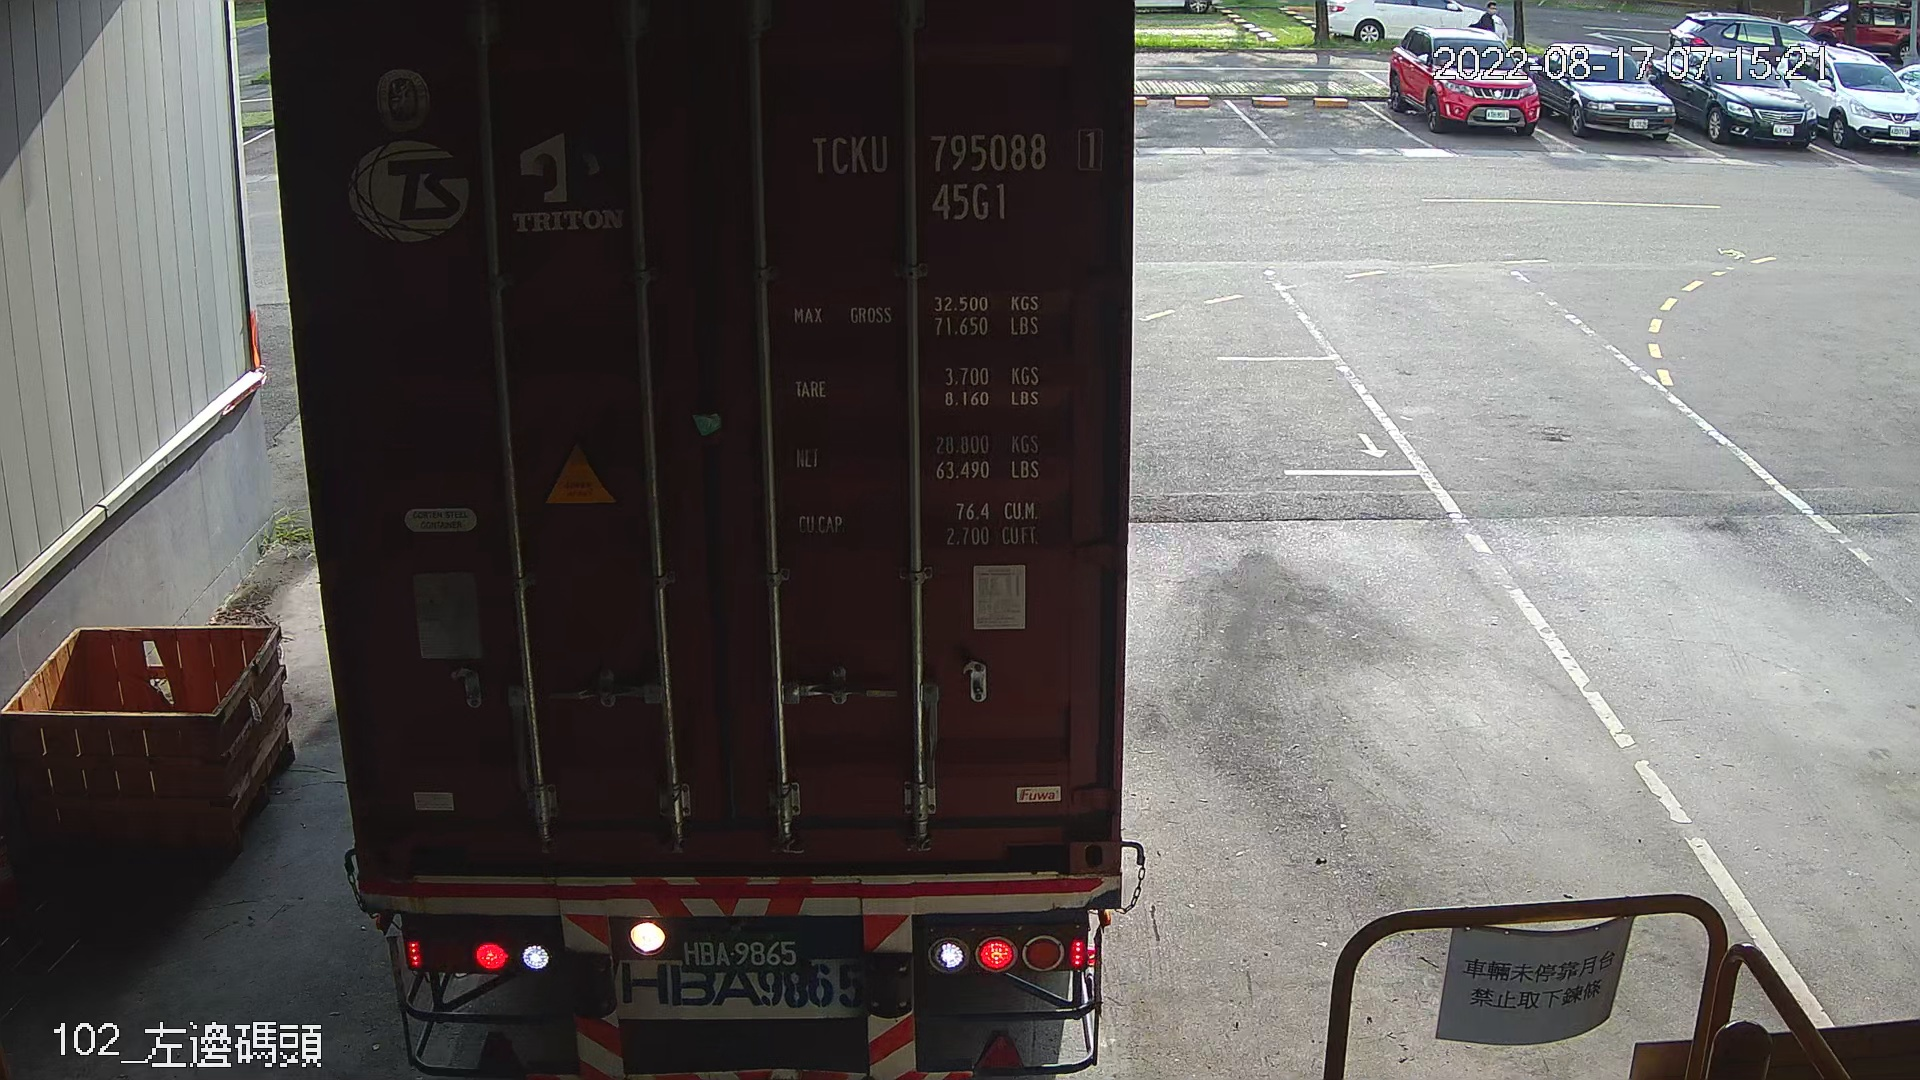container: (796, 120, 1116, 229)
